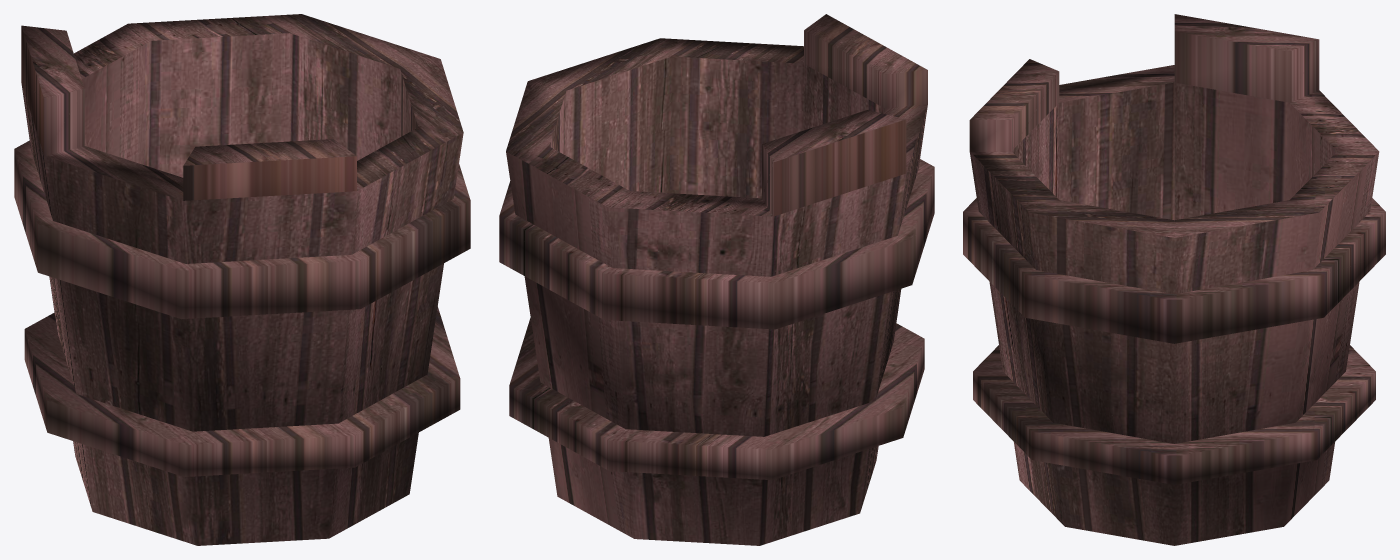
The model's file is Balde.fbx.
3 renders of one model, left to right at view 1: azimuth 30°, elevation 25°; view 2: azimuth 150°, elevation 25°; view 3: azimuth 270°, elevation 25°, orthographic. The views are drawn at different scales.
Parts seen in each view (by area): view 1: Balde; view 2: Balde; view 3: Balde.
Part boxes in pixels (left/top/right/bottom): Balde: left=14, top=14, right=470, bottom=545; Balde: left=499, top=14, right=934, bottom=545; Balde: left=963, top=14, right=1385, bottom=545.
Size of the model in its own units: 57.5 by 57.5 by 57.04.
